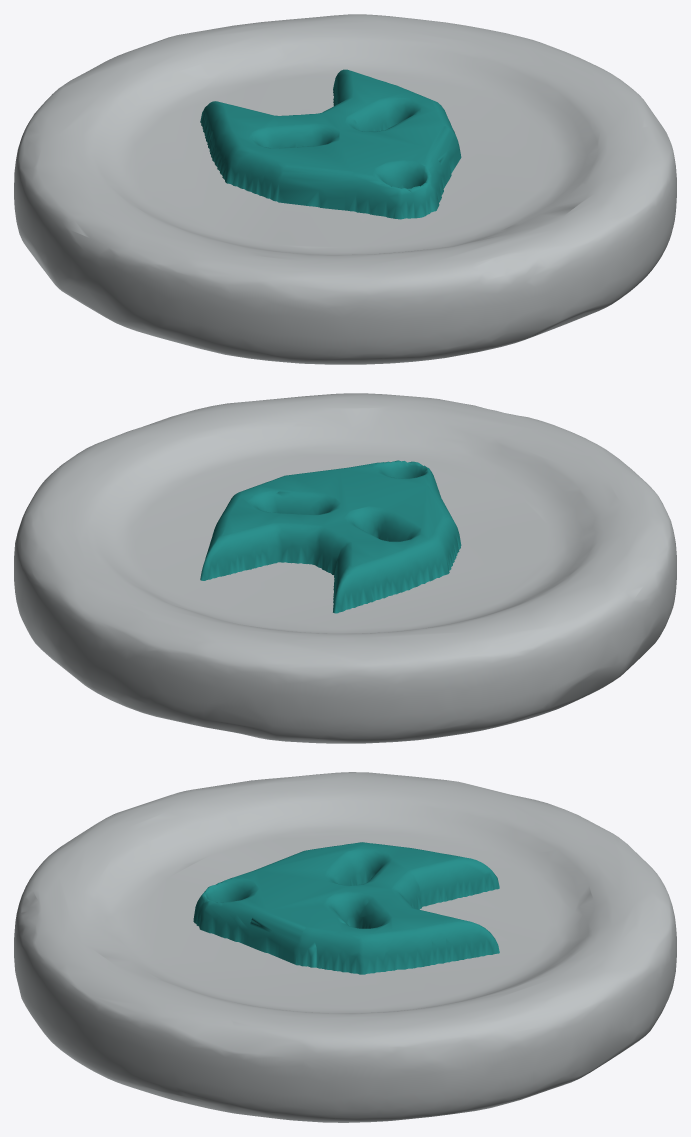
File: token-hunter-blue.glb
3 renders of one model, top to bottom at view 1: azimuth 30°, elevation 25°; view 2: azimuth 150°, elevation 25°; view 3: azimuth 270°, elevation 25°, orthographic.
Visible parts, largest first — view 1: token_hunter_blue; view 2: token_hunter_blue; view 3: token_hunter_blue.
Boxes of the visible parts, x1,y1,x2,y2 form: token_hunter_blue: (14, 14, 676, 364); token_hunter_blue: (14, 393, 676, 743); token_hunter_blue: (14, 772, 676, 1122).
Bounding box in the file's own units: 0.4139 × 0.072 × 0.414.
